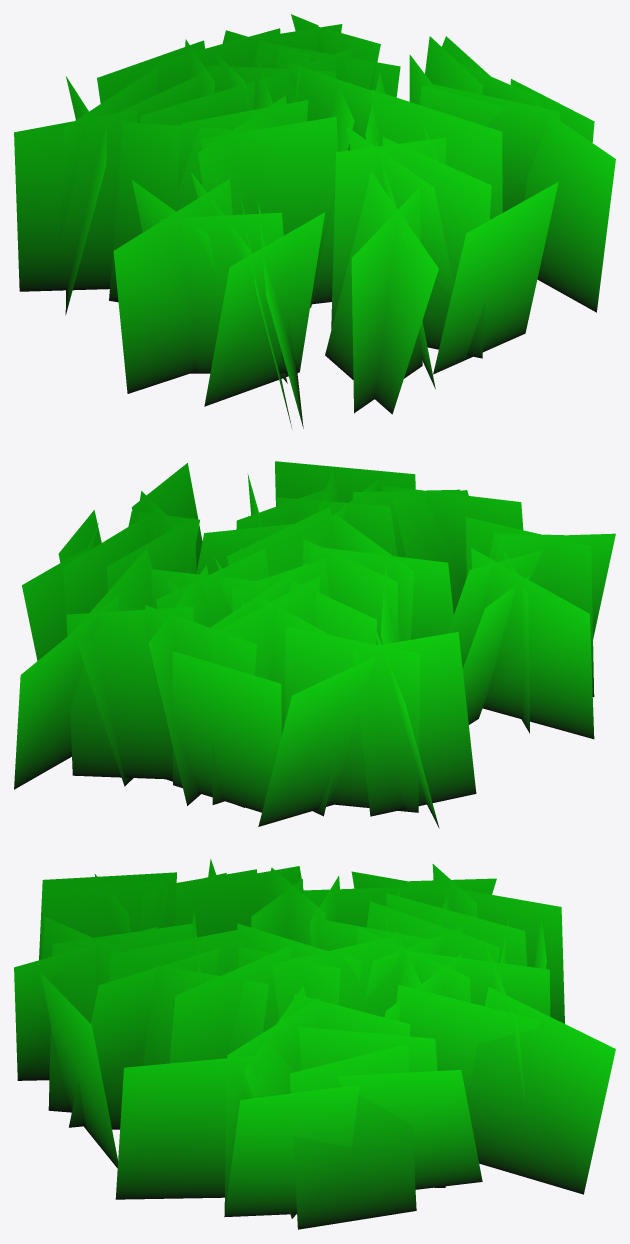
File: grass_03.fbx
The picture shows the model from 3 angles, top to bottom: view 1: azimuth 30°, elevation 25°; view 2: azimuth 150°, elevation 25°; view 3: azimuth 270°, elevation 25°; orthographic projection. The views are drawn at different scales.
Parts seen in each view (by area): view 1: IL3DN_Plant_Grass_02_LOD0; view 2: IL3DN_Plant_Grass_02_LOD0; view 3: IL3DN_Plant_Grass_02_LOD0.
Boxes of the visible parts, x1,y1,x2,y2 form: IL3DN_Plant_Grass_02_LOD0: (14,14,615,428); IL3DN_Plant_Grass_02_LOD0: (14,461,615,828); IL3DN_Plant_Grass_02_LOD0: (14,859,615,1229).
Bounding box in the file's own units: 178 × 69.35 × 189.
